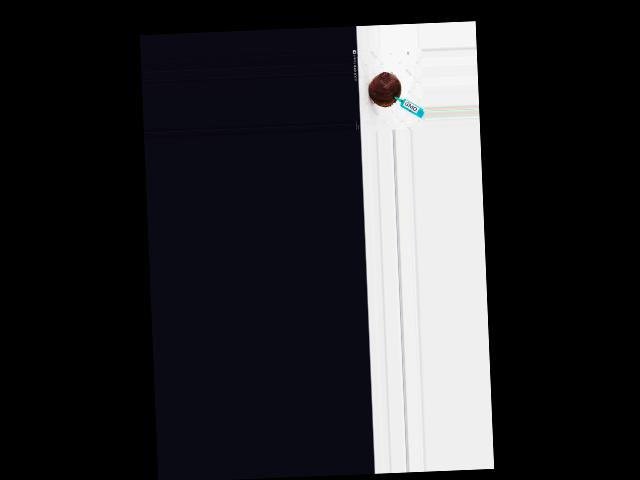beet: (367, 71, 401, 107)
